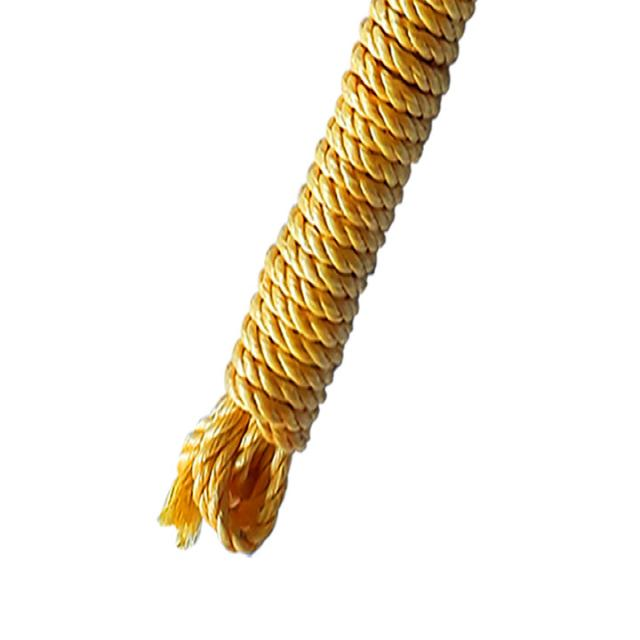Rope: (159, 0, 481, 586)
